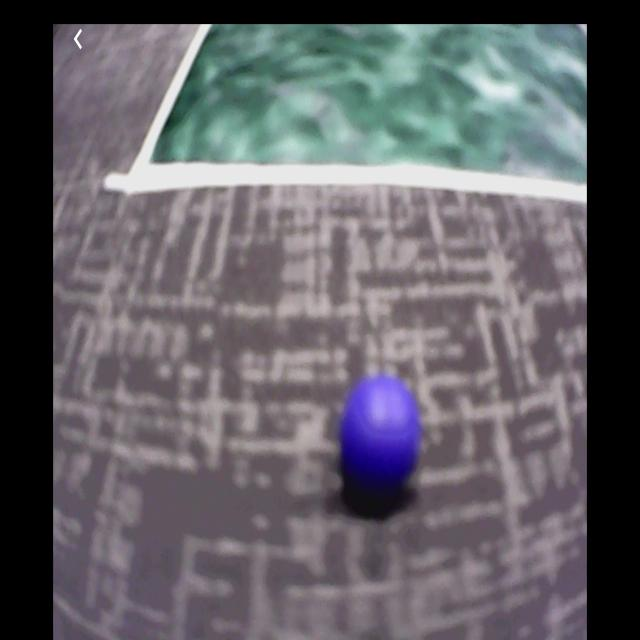ball: (341, 375, 420, 501)
